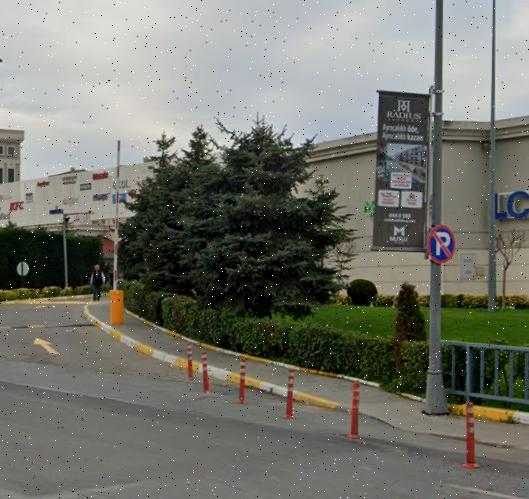nopark: (425, 226, 454, 261)
